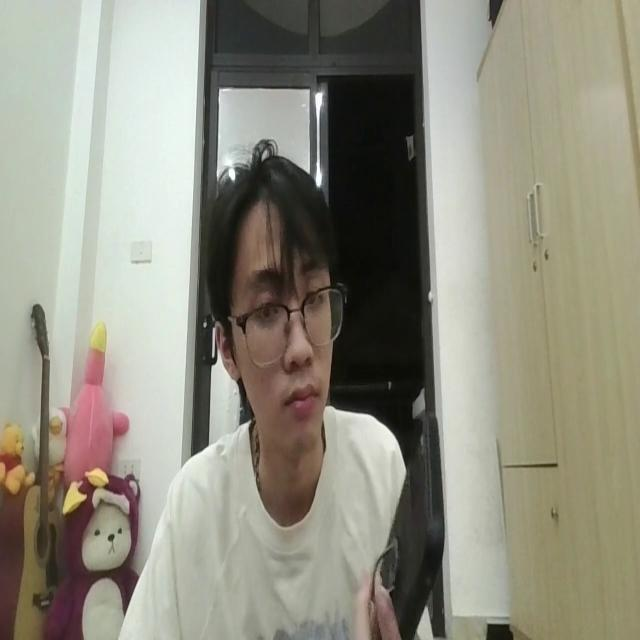phone: (363, 408, 447, 629)
student: (108, 151, 424, 640)
